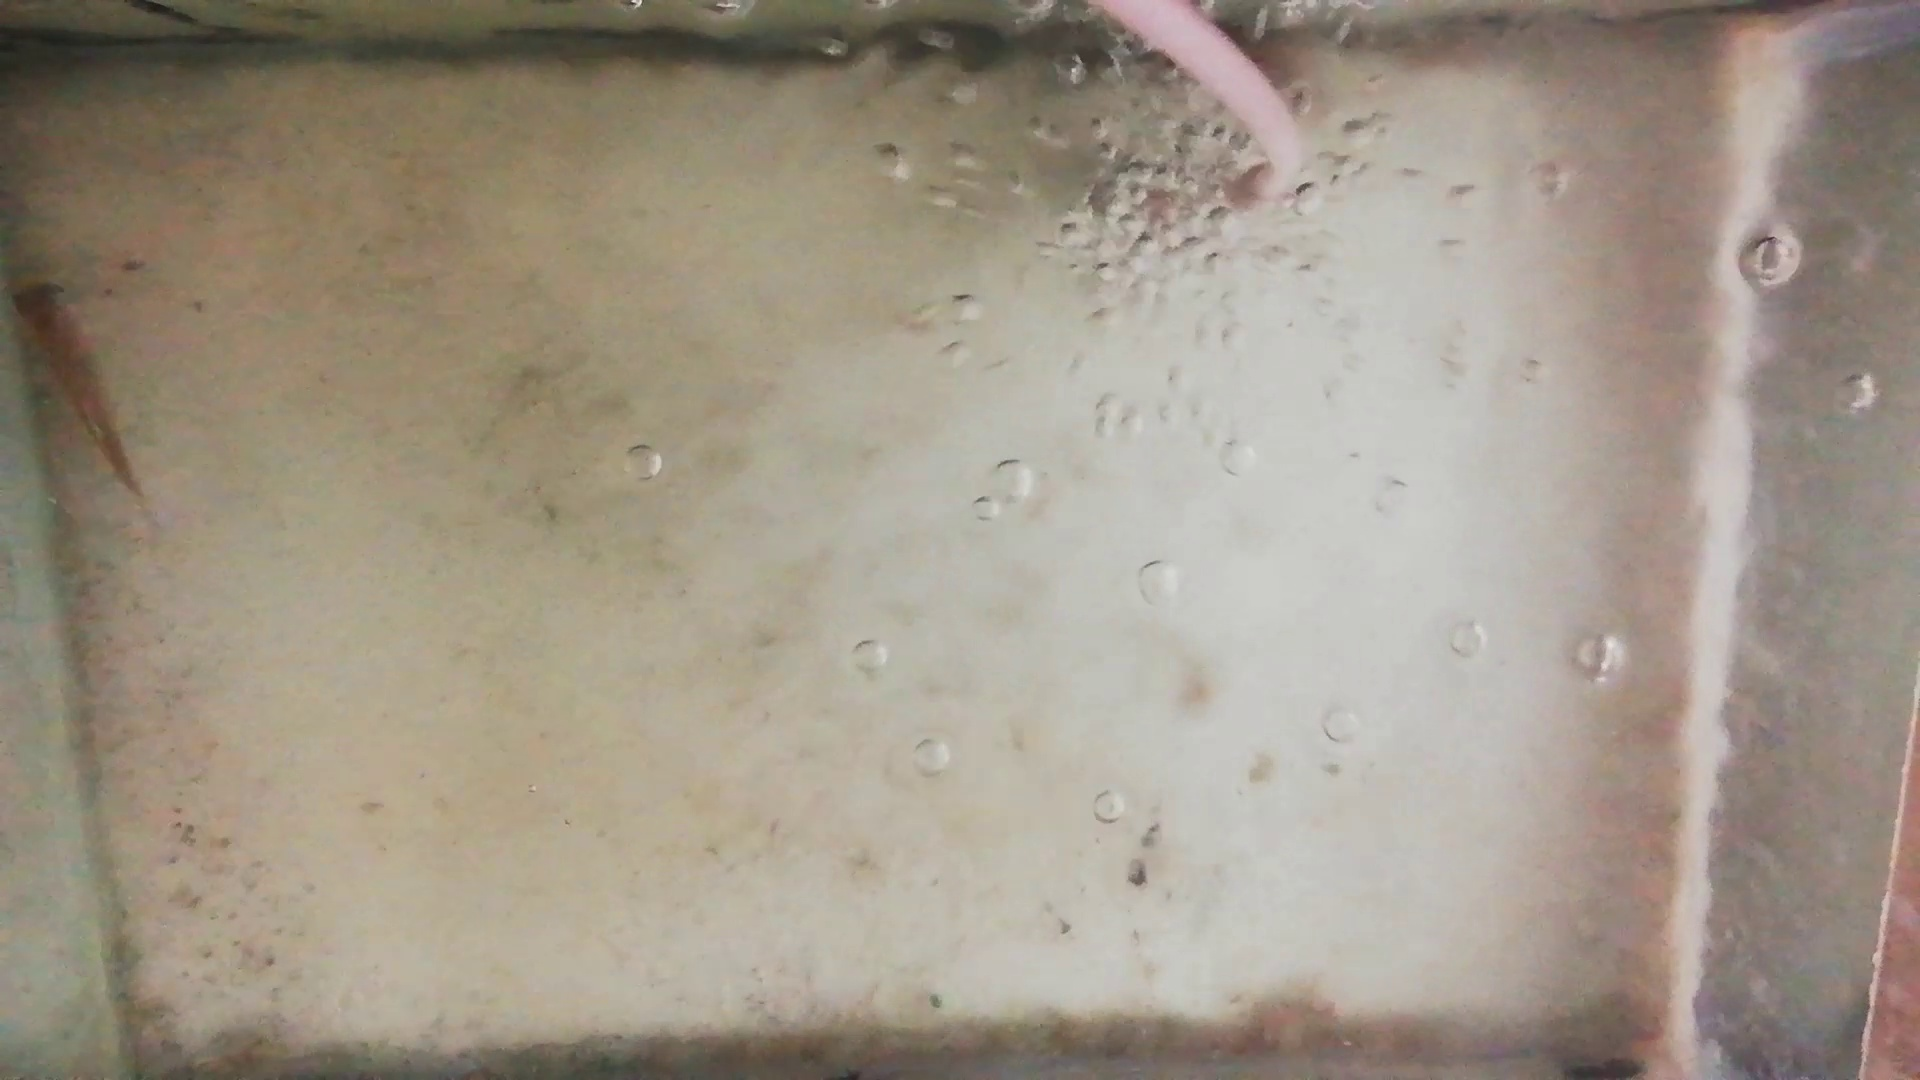fish: (16, 276, 133, 492)
